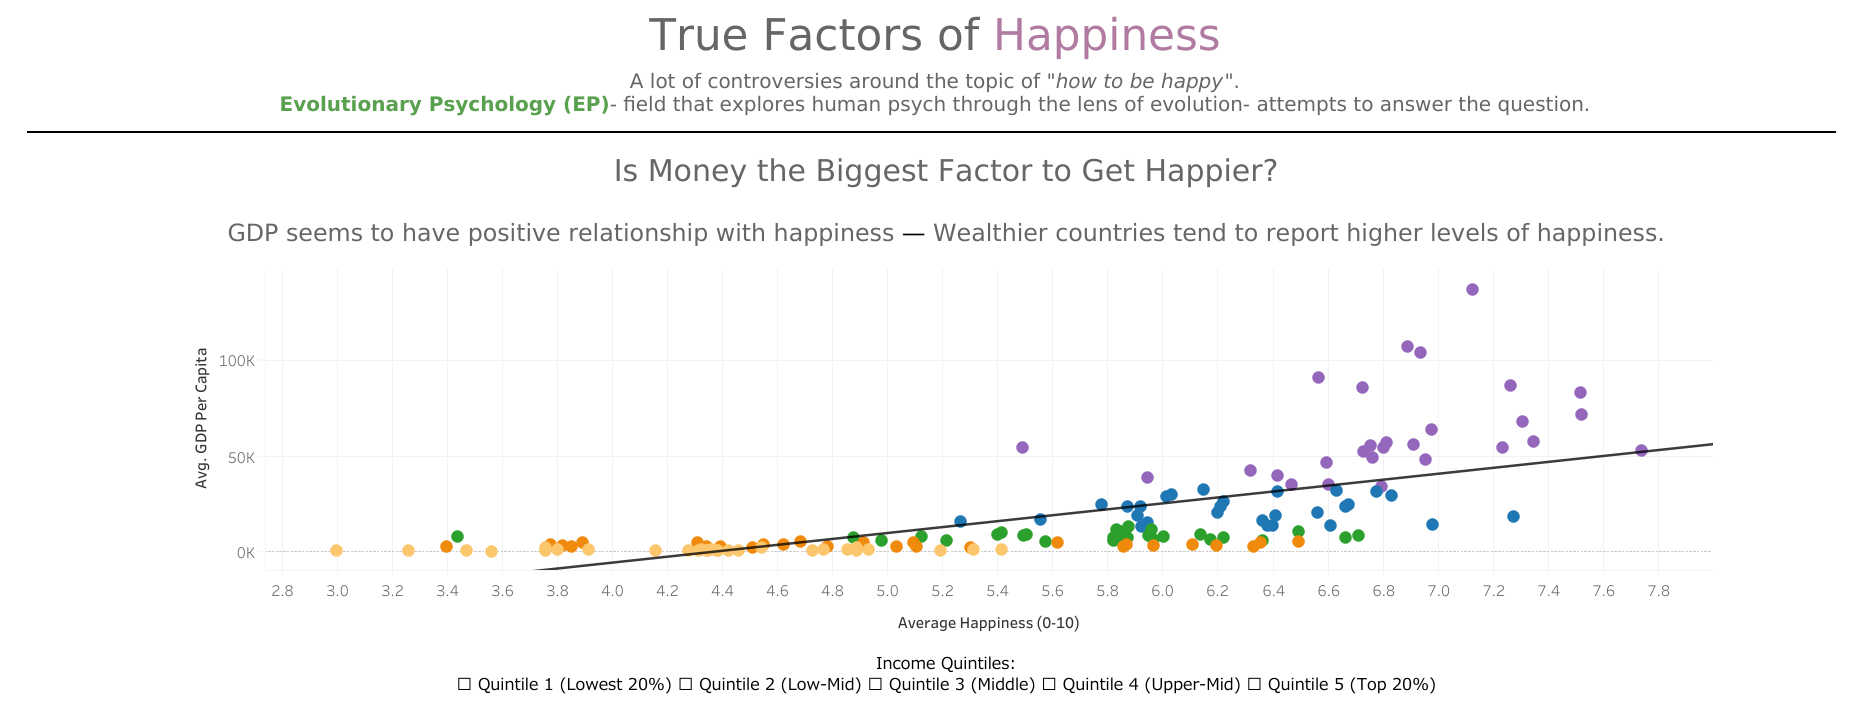

What the dashboard file says about the page in this screenshot:
{"tool":"tableau","page":{"name":"Page 1","canvas":[1000,1000],"units":"permille","ordinal":0},"visuals":[{"type":"text","box":[2.4,7.5,995.2,82.4]},{"type":"text","box":[2.4,89.9,995.2,87.4]},{"type":"blank","box":[15.1,183.5,965.6,1.2]},{"type":"text","box":[91.1,186,829.8,73.7]},{"type":"text","box":[91.1,259.7,829.8,51.2]},{"type":"worksheet","title":"World GDP&H","mark":"Circle","rows":["GDP_Per_Capita"],"cols":["Happiness"],"box":[93.5,315.9,825,591.8]},{"type":"text","box":[93.5,907.6,825,67.4]}]}

Visuals, with their boxes on the dashboard's canvas, which has no fixed pixel size, in thousandths of its width and height (x1, y1, x2, y2). These are canvas units, not pixel positions in the 1869x716 screenshot, which may show the page scaled, cropped or inside an application window:
text: [2,8,998,90]
text: [2,90,998,177]
blank: [15,184,981,185]
text: [91,186,921,260]
text: [91,260,921,311]
"World GDP&H" worksheet (Circle marks): [94,316,918,908]
text: [94,908,918,975]
